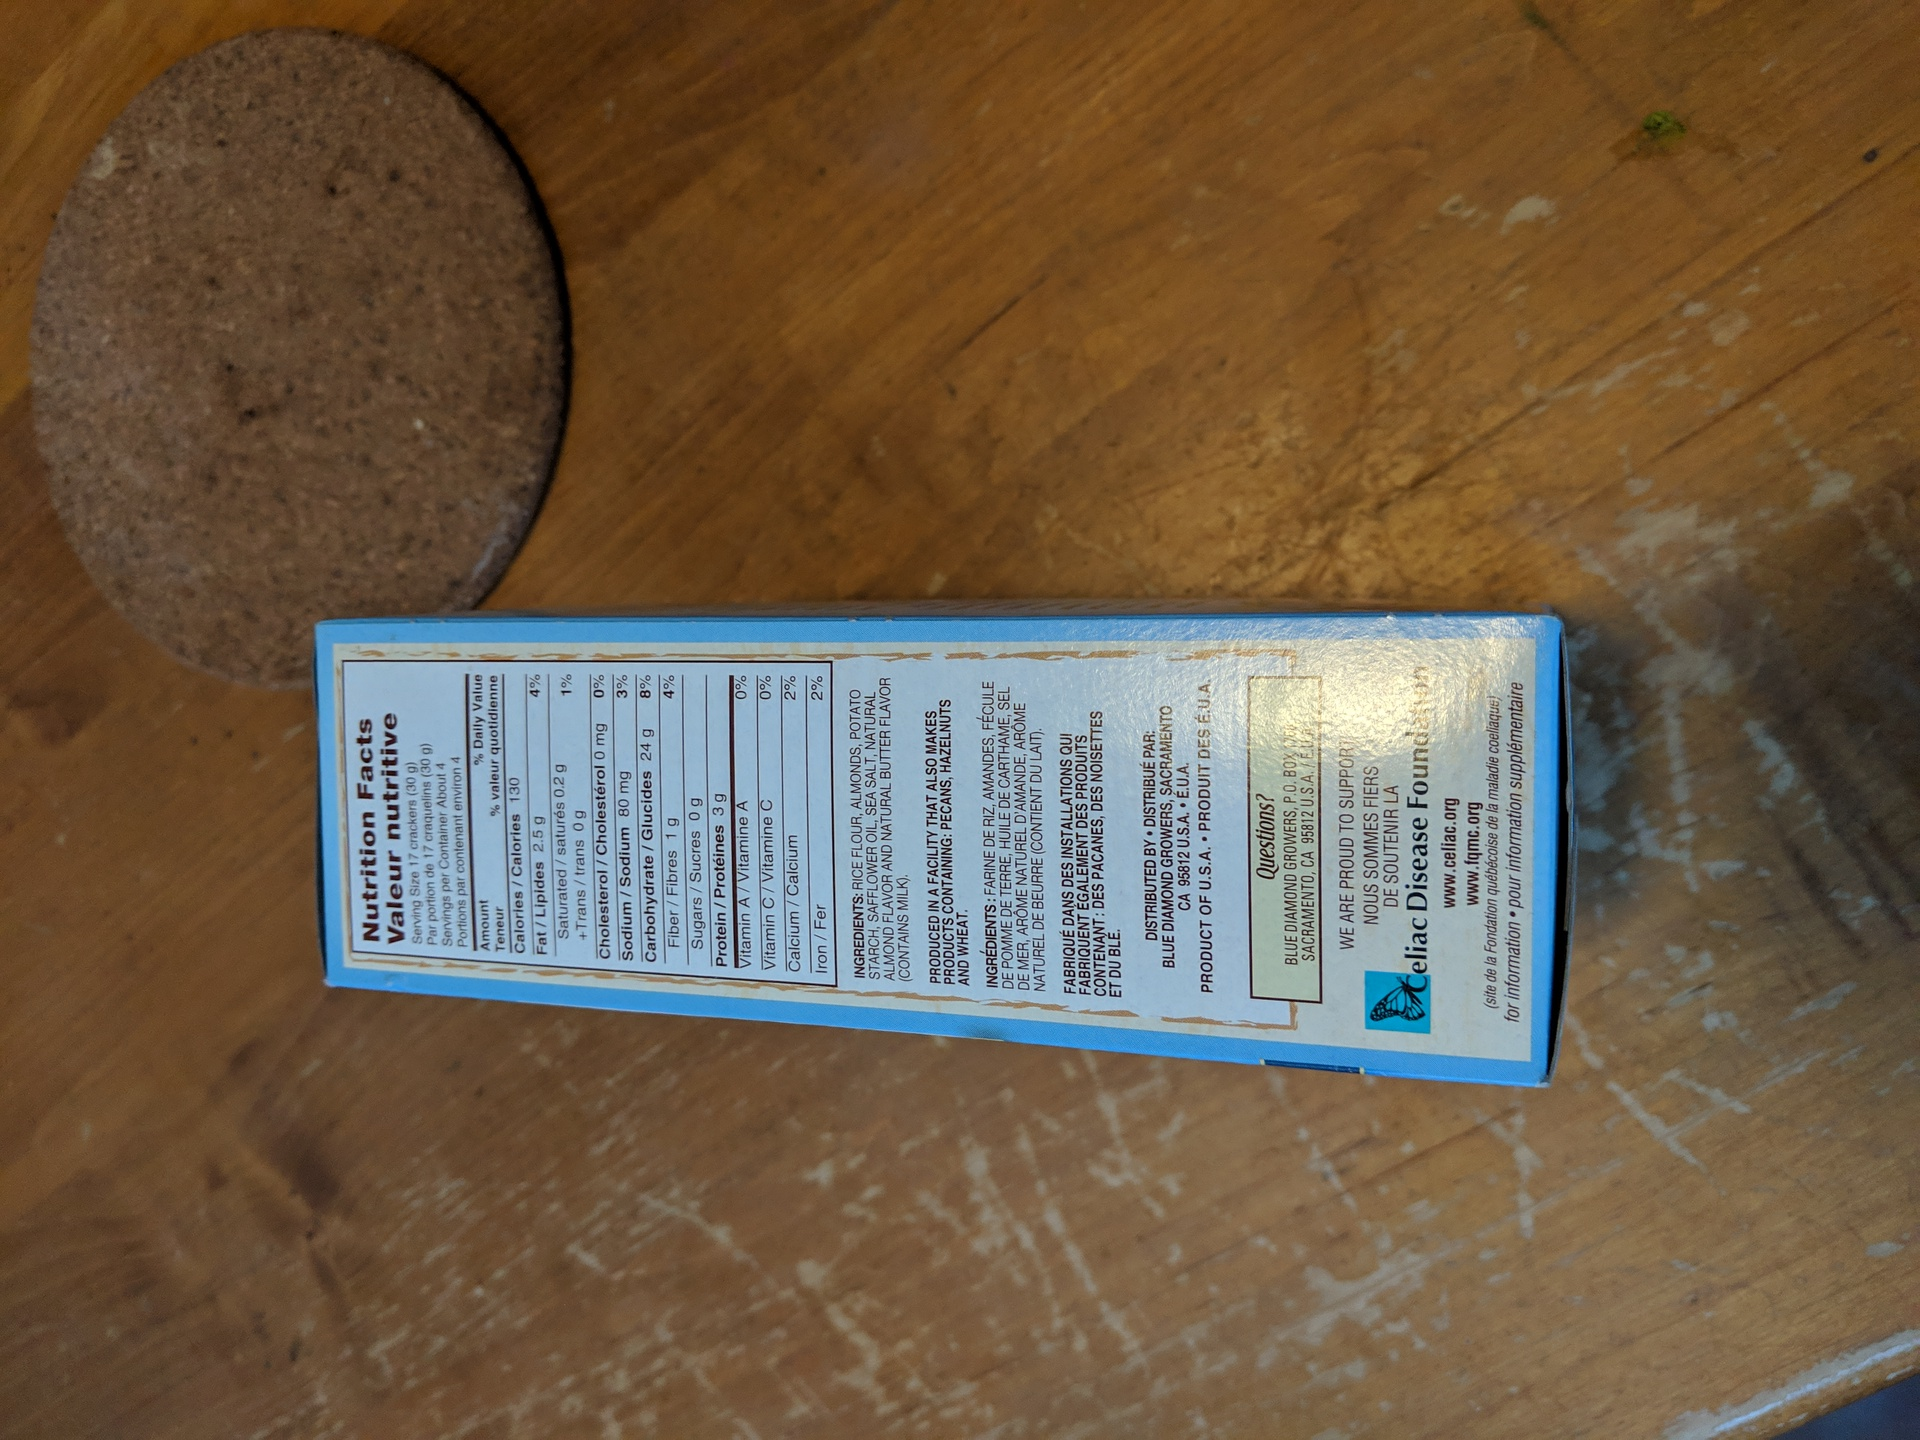blue_diamond_nut_thins_almond_seasalt: (314, 616, 1563, 1082)
